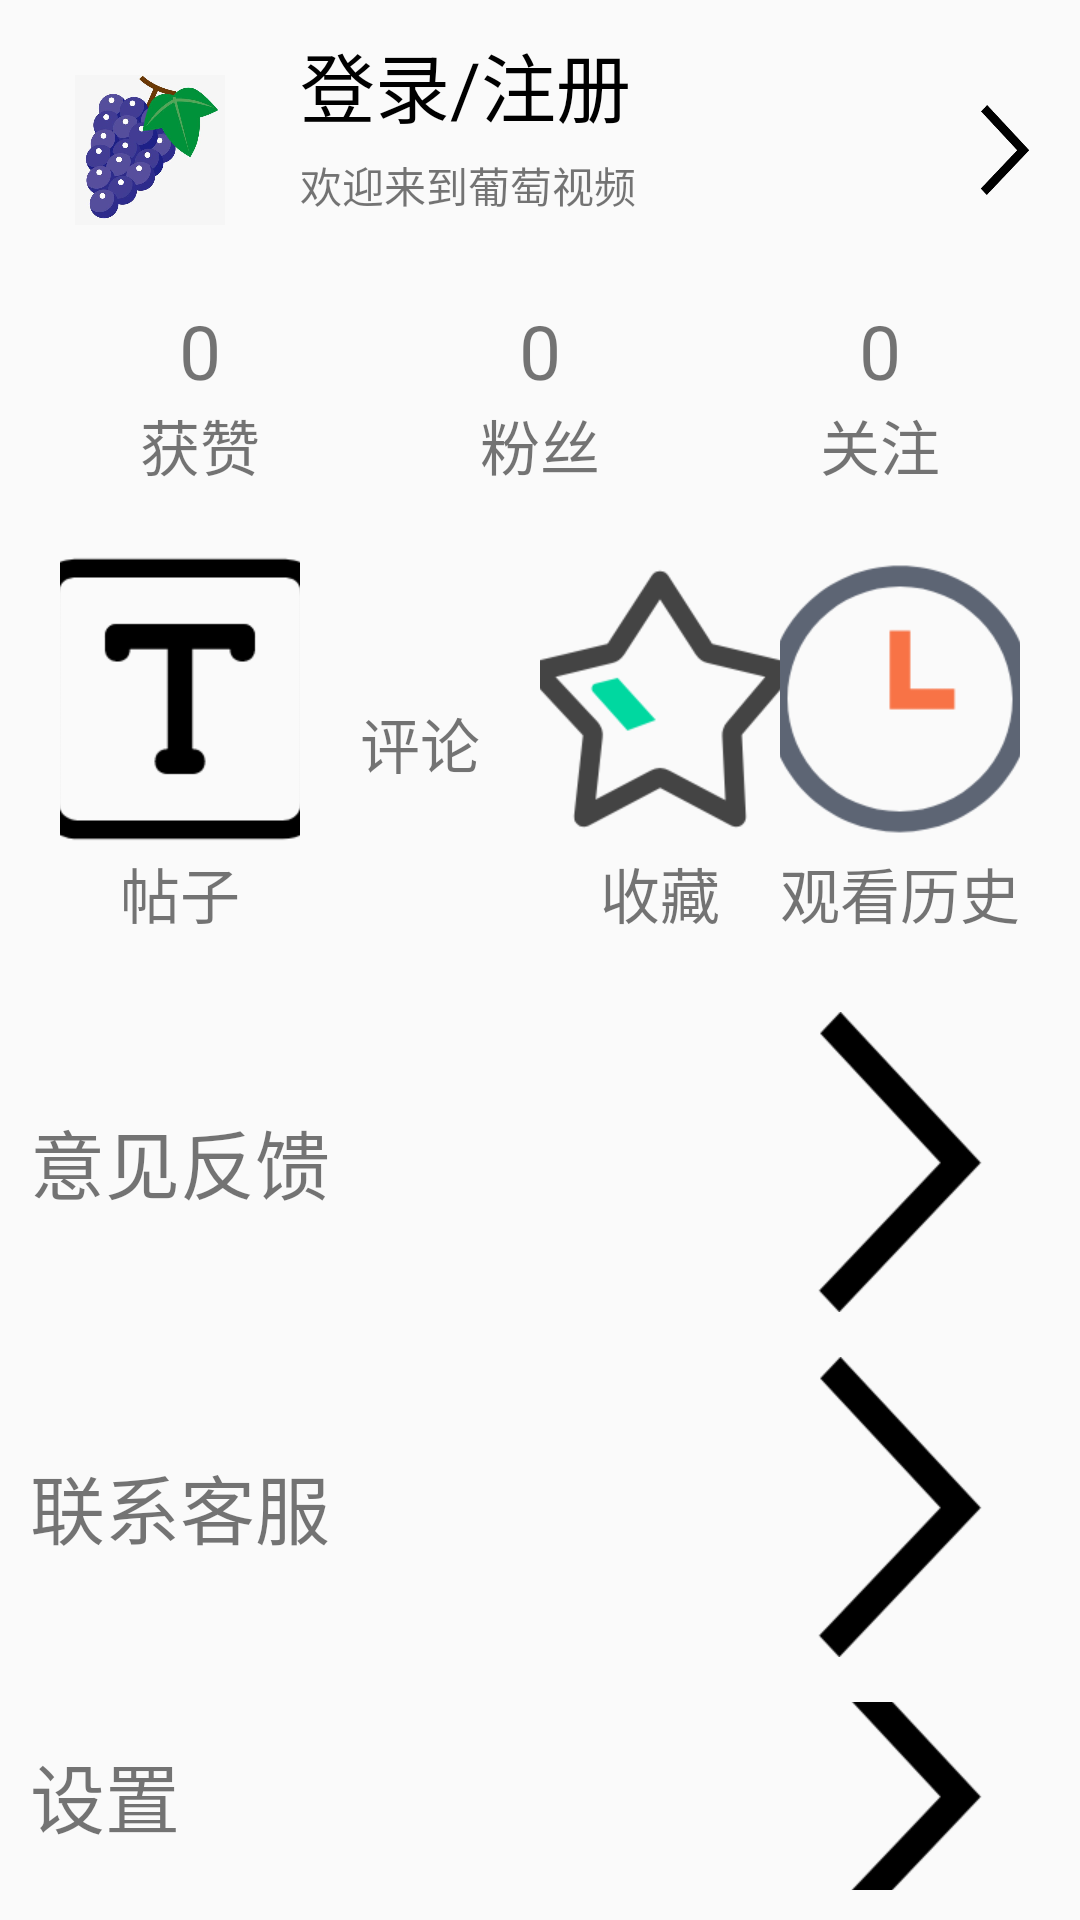

Icon click points for this 1080px×1920px phone screenshot, format (x,y):
appicon: (152,147)
